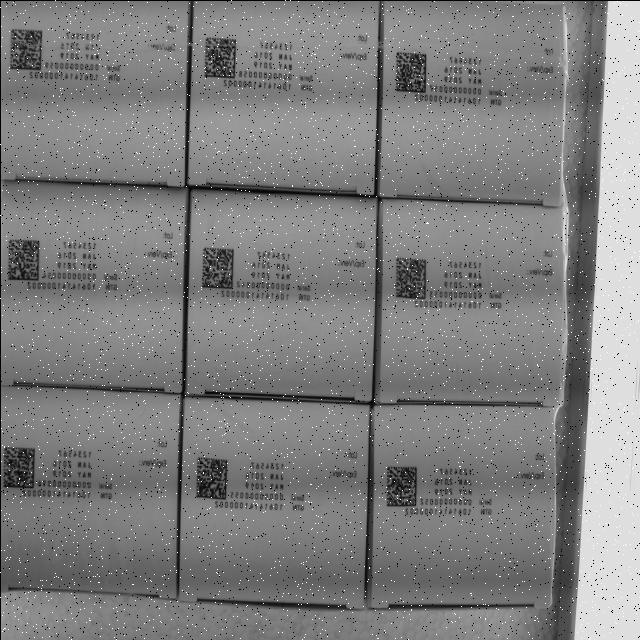datamatrix: (0, 443, 35, 488), (193, 455, 228, 500), (9, 24, 43, 70), (201, 36, 236, 80), (392, 48, 426, 93), (200, 244, 234, 289), (383, 462, 417, 507), (393, 254, 427, 298), (6, 238, 40, 282)
